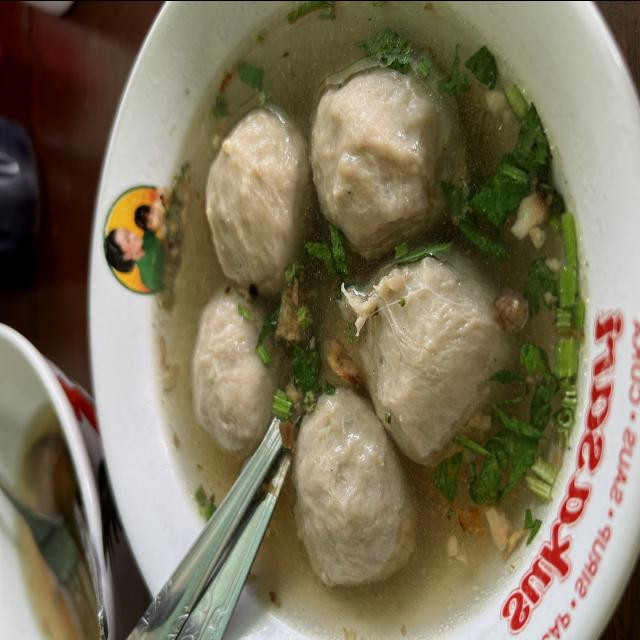bakso: (103, 12, 591, 640)
